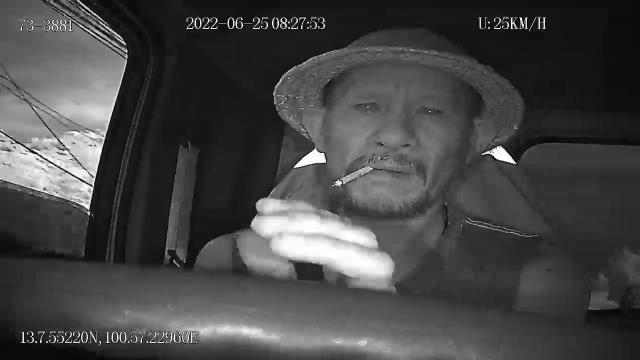SafeDriving: (411, 97, 452, 124), (346, 92, 386, 116)
Smoking: (334, 162, 374, 188)
